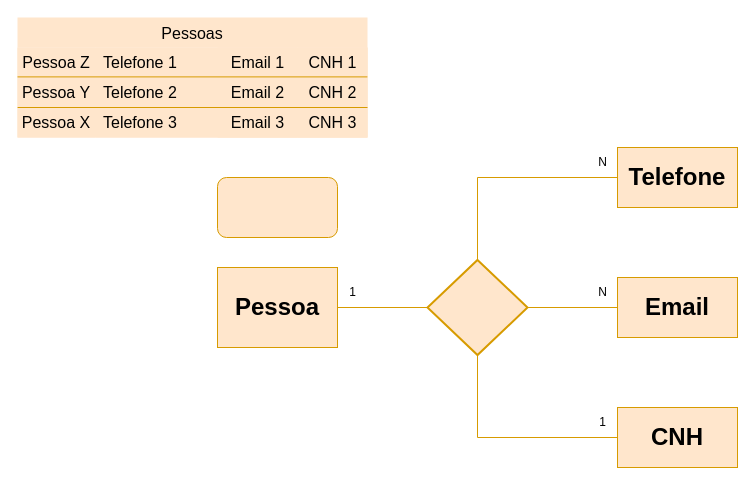
This 755x485 diagram has some shape labels left out. Here are the shapes that lost their labels. From the top down, the centre of each, then its label:
At point 277,207: "Onde".
At point 477,307: "Possui".
